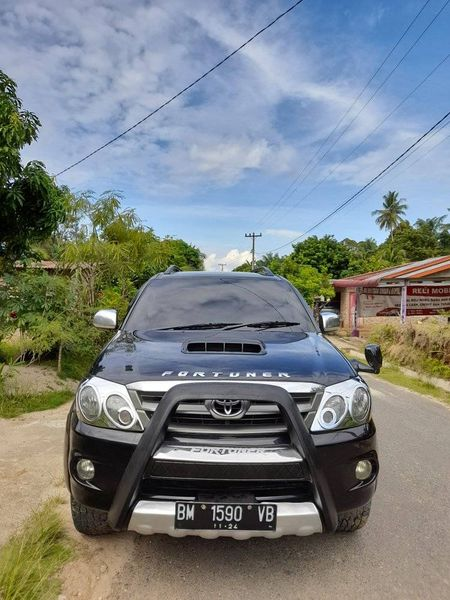plate: (170, 493, 293, 540)
